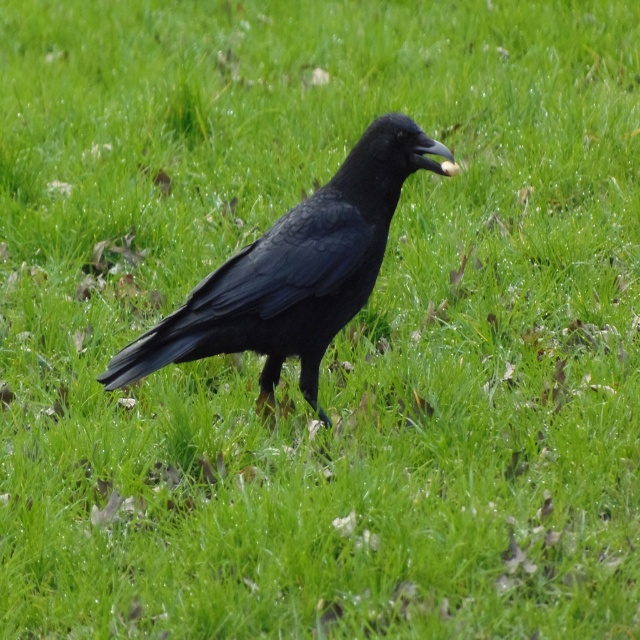Raven: (95, 111, 461, 436)
